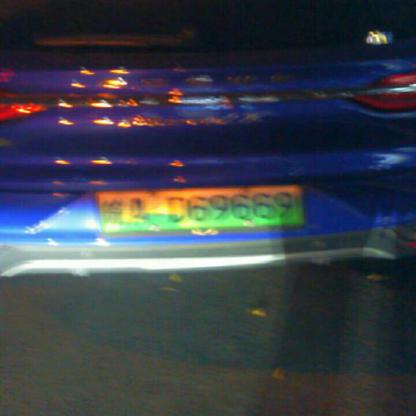lp: (98, 185, 304, 232)
